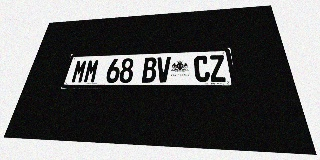6: (105, 58, 122, 83)
8: (118, 58, 135, 83)
B: (142, 57, 157, 83)
C: (194, 55, 210, 82)
M: (70, 60, 88, 83), (83, 59, 100, 83)
V: (156, 57, 171, 82)
Z: (209, 55, 227, 82)
